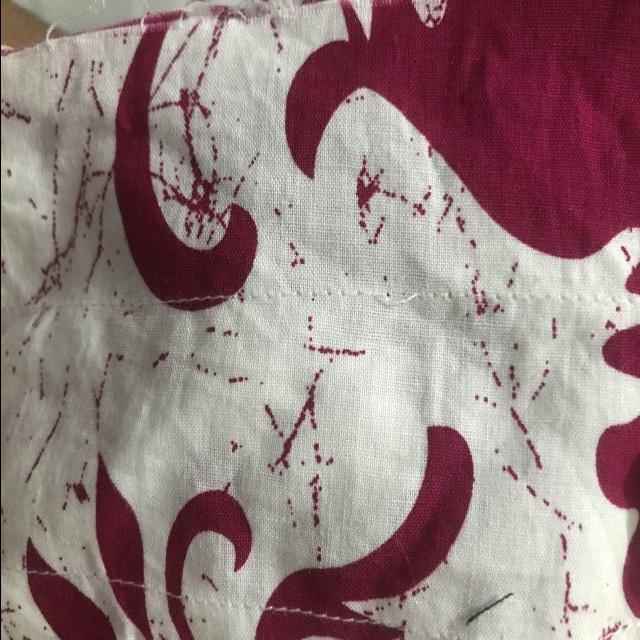Skip: (360, 264, 433, 334)
